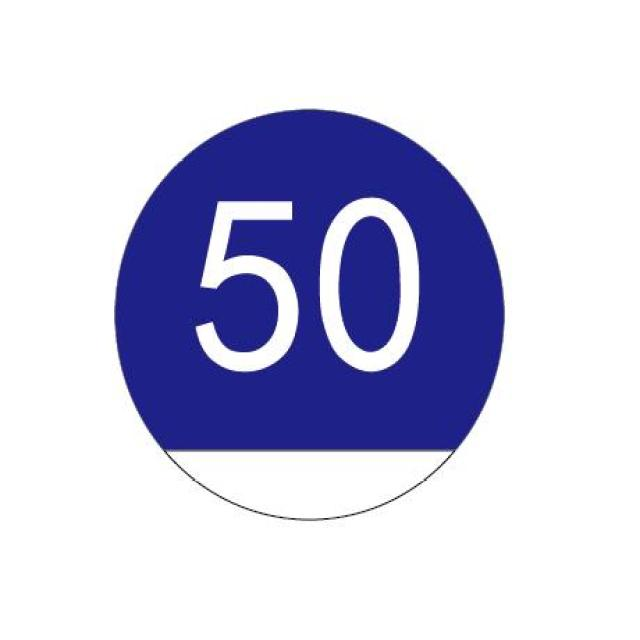speed limit 50: (113, 109, 508, 521)
